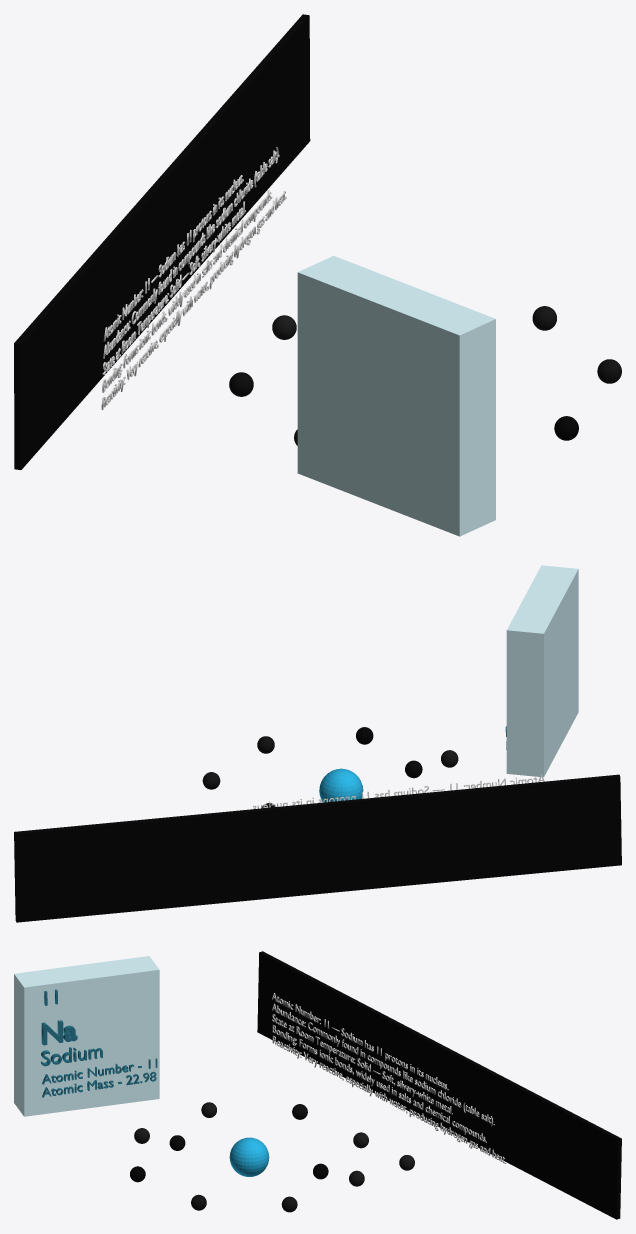
File: Sodium final.fbx
3 renders of one model, top to bottom at view 1: azimuth 30°, elevation 25°; view 2: azimuth 150°, elevation 25°; view 3: azimuth 270°, elevation 25°, orthographic. The views are drawn at different scales.
Visible parts, largest first — view 1: Cube, Cube.001, Text.003; view 2: Cube.001, Cube, Sphere.012, Text.003; view 3: Cube.001, Cube, Text.003, Sphere.012, Text.002, Text.001, Text.
Boxes of the visible parts, x1,y1,x2,y2 form: Cube: (297, 256, 495, 536); Cube.001: (14, 14, 310, 469); Text.003: (101, 147, 286, 410); Cube.001: (14, 774, 621, 922); Cube: (506, 565, 578, 777); Sphere.012: (319, 768, 363, 802); Text.003: (253, 774, 544, 809); Cube.001: (257, 951, 621, 1219); Cube: (14, 956, 159, 1116); Text.003: (272, 993, 506, 1163); Sphere.012: (229, 1137, 269, 1176); Text.002: (42, 1058, 157, 1097); Text.001: (41, 989, 102, 1066); Text: (41, 1020, 77, 1045).
Bounding box in the file's own units: 1073 × 431 × 1534.
